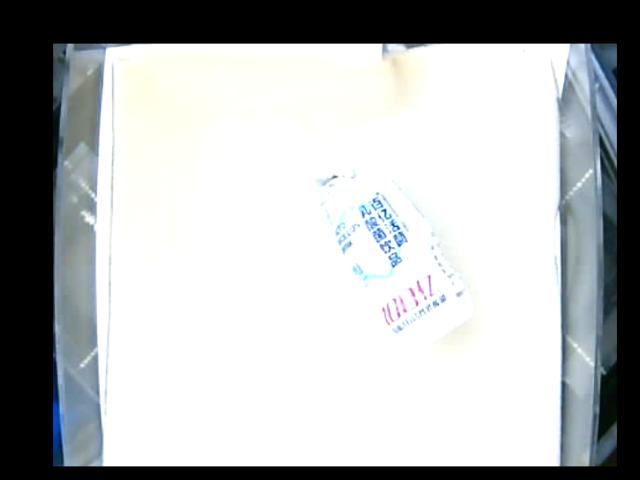Bottle: (313, 161, 475, 356)
